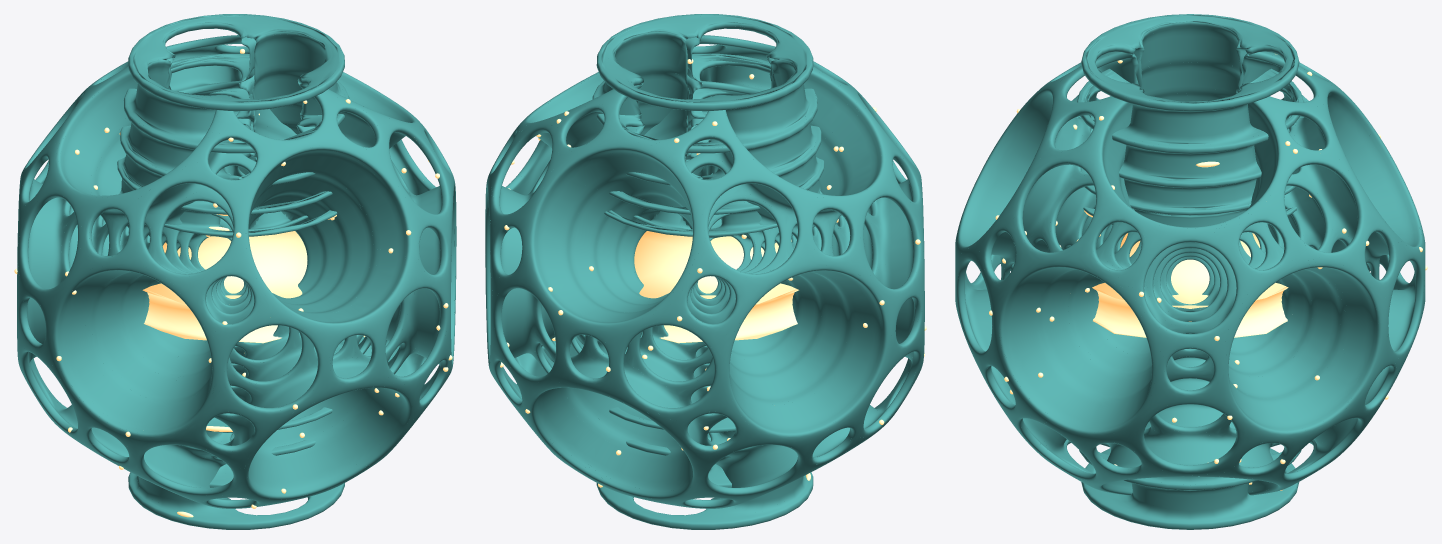
The model's file is dodecahedron.glb.
The picture shows the model from 3 angles, left to right: view 1: azimuth 30°, elevation 25°; view 2: azimuth 150°, elevation 25°; view 3: azimuth 270°, elevation 25°; orthographic projection.
Visible parts, largest first — view 1: Solid_0; view 2: Solid_0; view 3: Solid_0.
Part boxes in pixels (bbox=[...]): Solid_0: bbox=[14, 14, 456, 529]; Solid_0: bbox=[485, 14, 926, 529]; Solid_0: bbox=[955, 14, 1427, 529].
Bounding box in the file's own units: 1.68 × 1.68 × 1.69.
